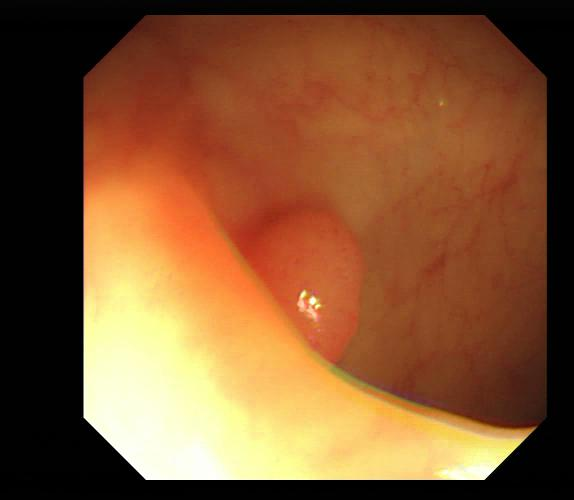polyp: (246, 208, 365, 367)
